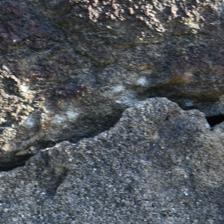Crack: (2, 45, 216, 141)
